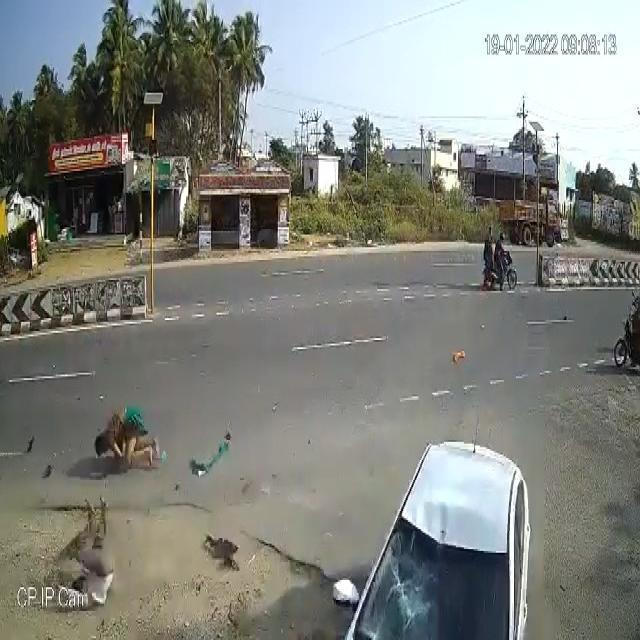accident: (336, 412, 536, 640)
